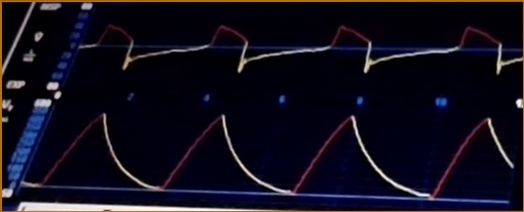Normal Flow: (81, 16, 524, 79)
Normal Volume: (41, 105, 511, 203)
